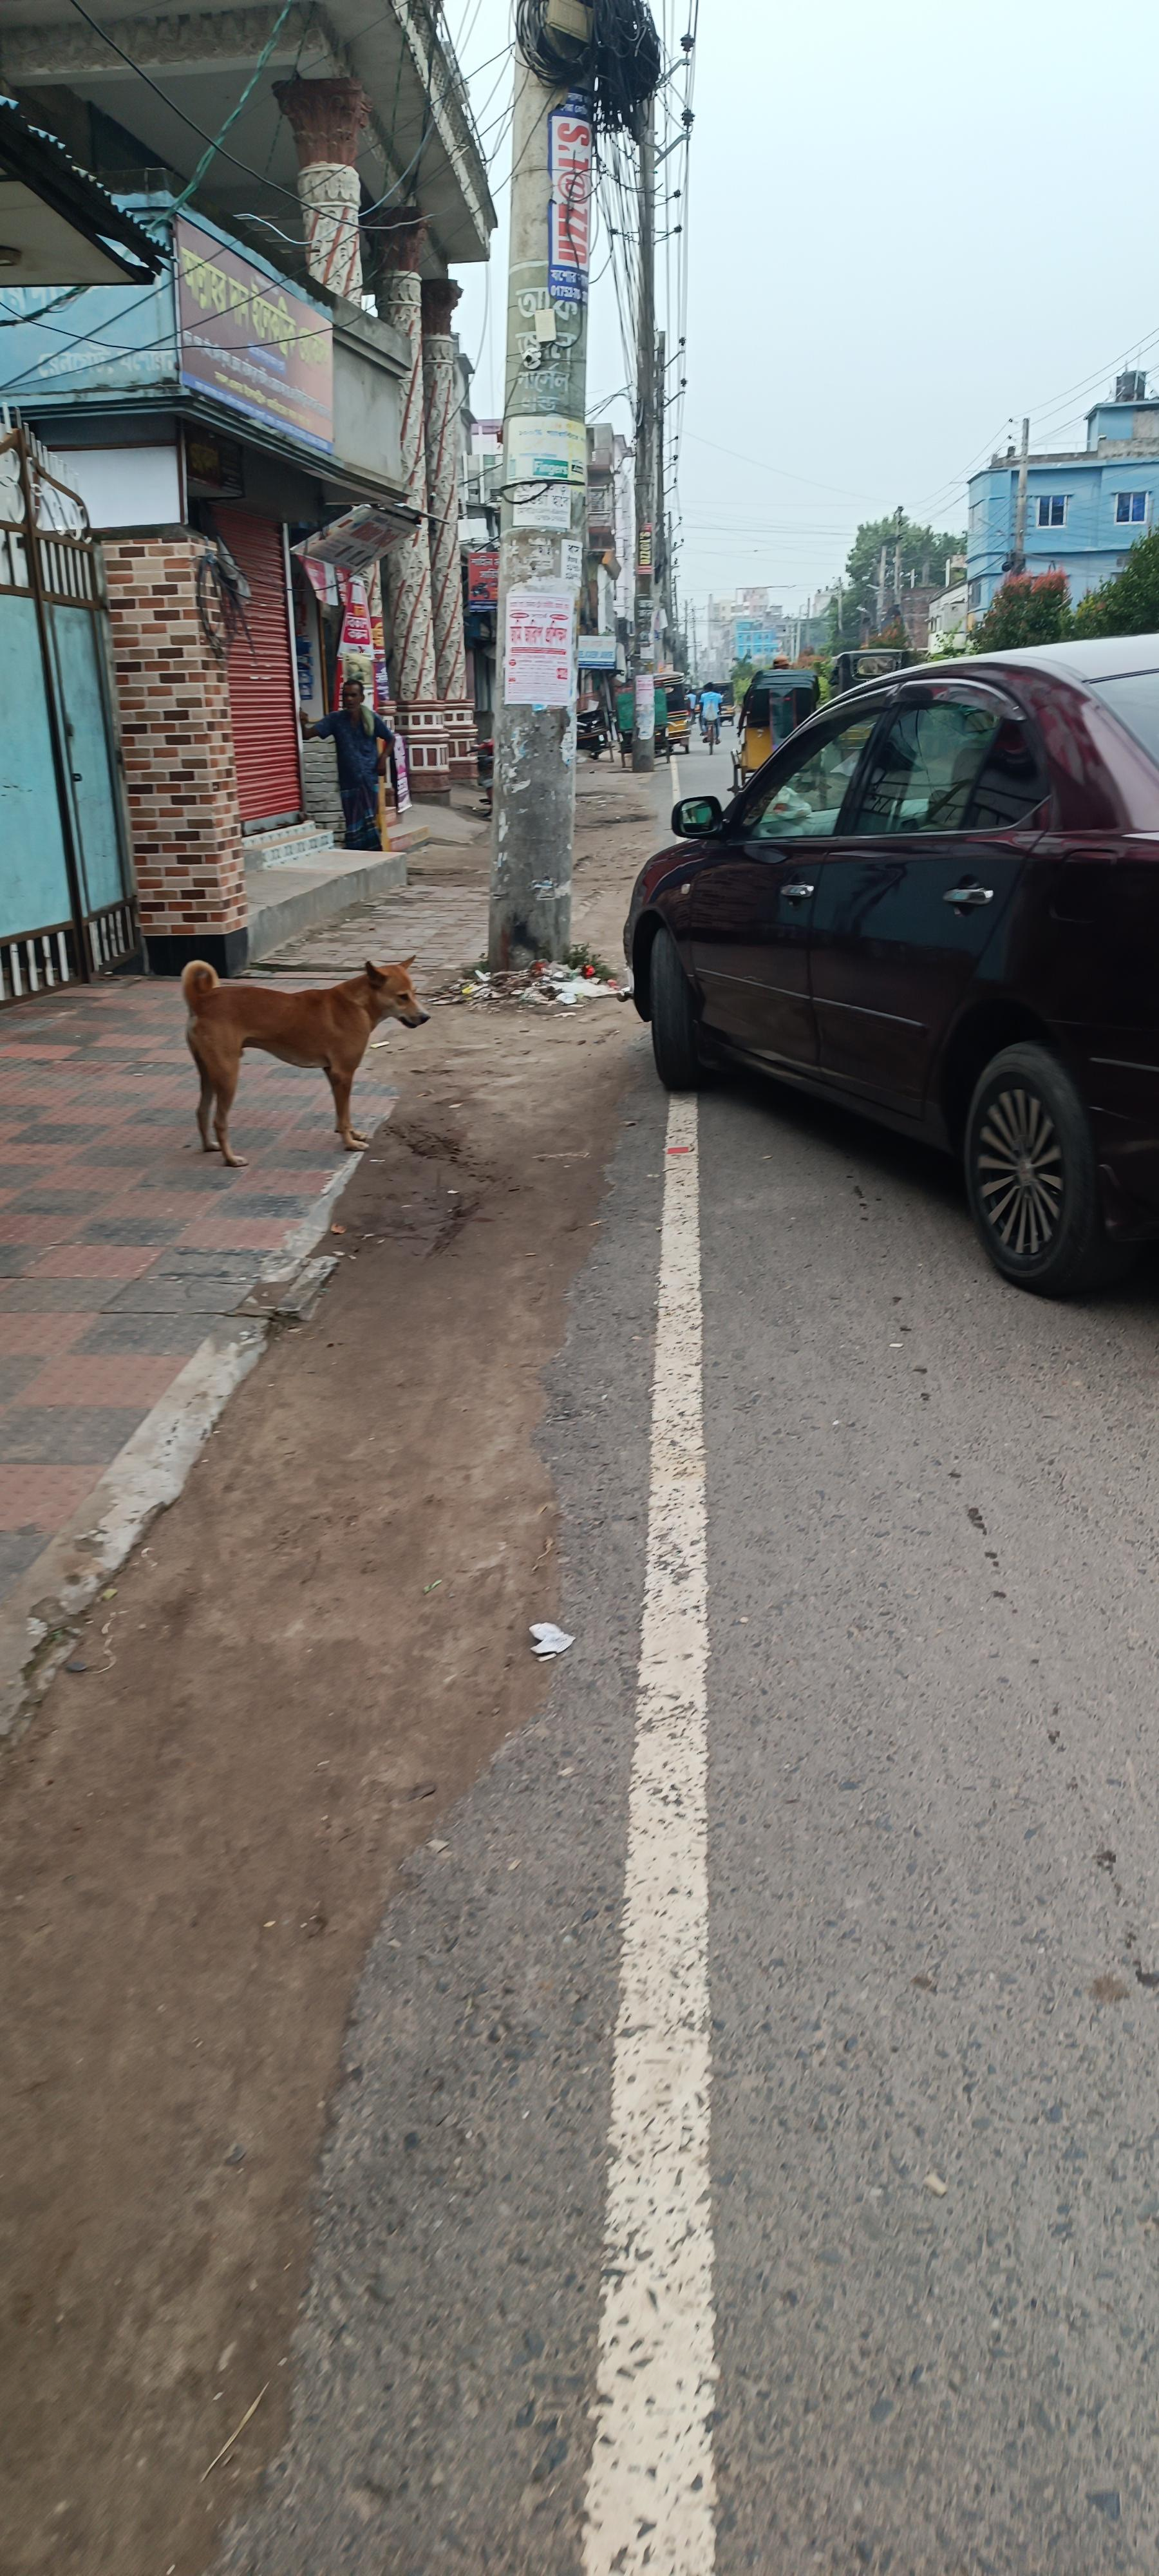Broken-road: (619, 631, 1159, 1326)
Crosswalk: (181, 953, 432, 1168)
Garbage-bin: (302, 678, 397, 851)
Light-pole: (486, 3, 599, 971)
